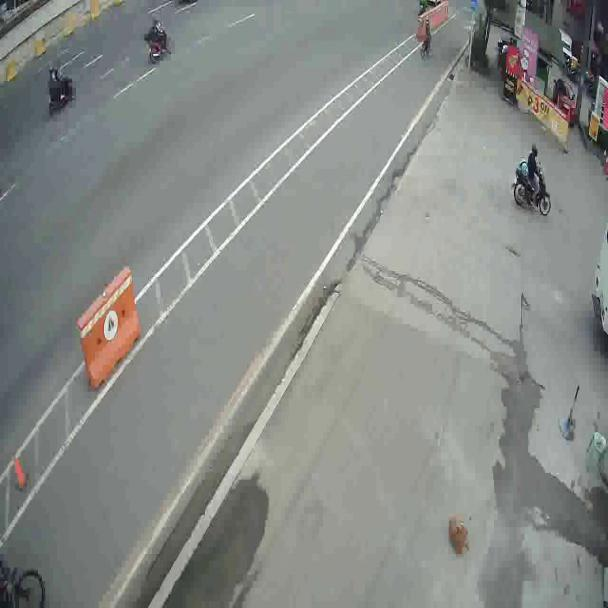motorcyclist: (512, 143, 552, 218), (46, 59, 78, 122), (142, 13, 171, 66)
